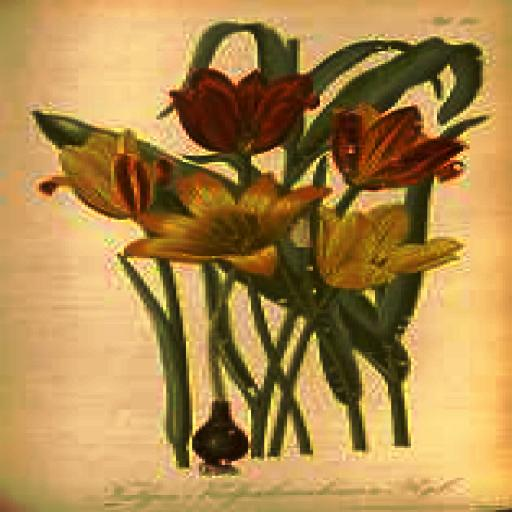tulip: (166, 68, 323, 156), (330, 102, 466, 192), (39, 130, 173, 220)
